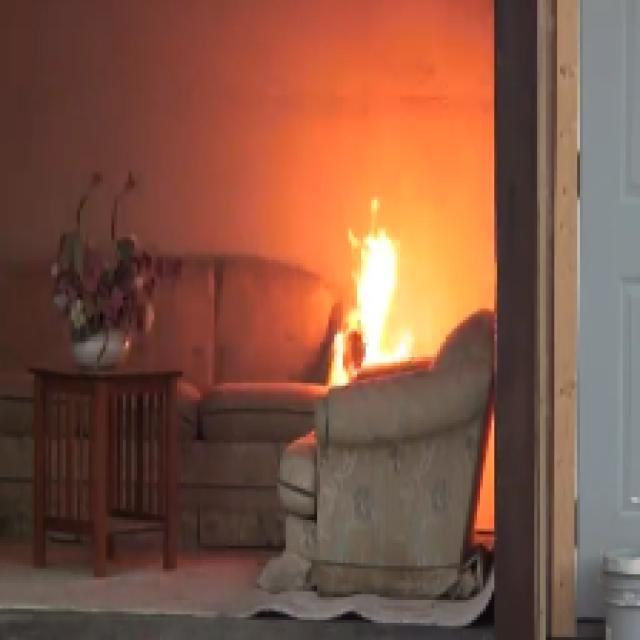fire: (339, 223, 417, 369)
